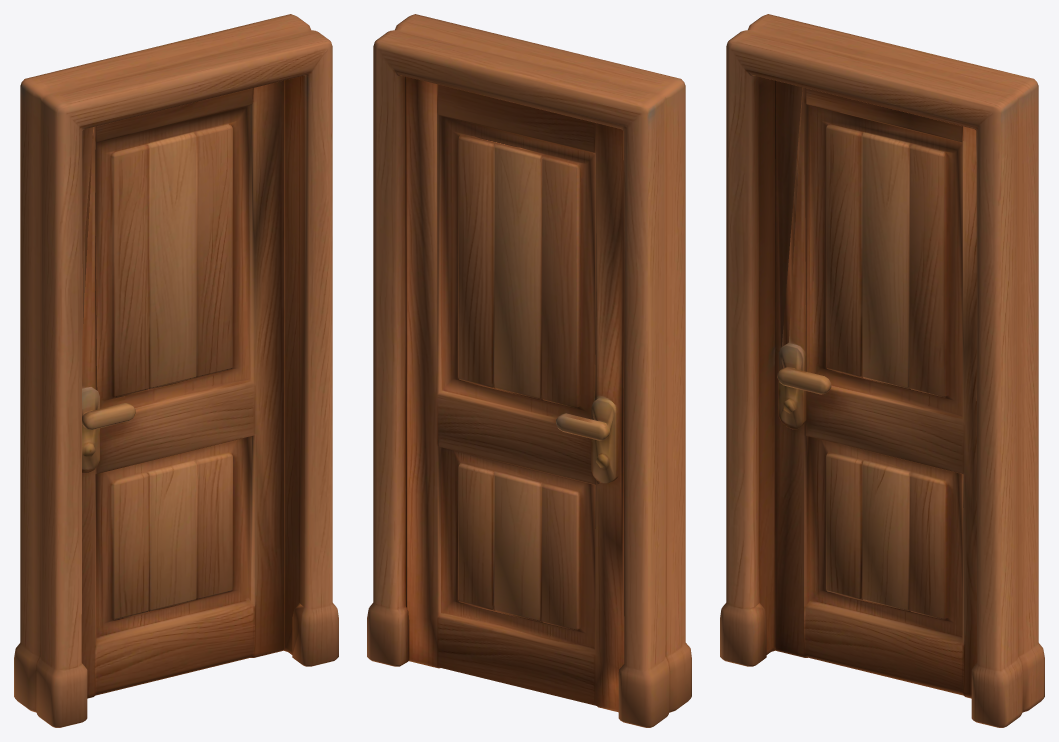
Rendered from a_wooden_door_e69c8654_v3.glb.
3 renders of one model, left to right at view 1: azimuth 30°, elevation 25°; view 2: azimuth 150°, elevation 25°; view 3: azimuth 330°, elevation 25°, orthographic.
Visible parts, largest first — view 1: material; view 2: material; view 3: material.
Part boxes in pixels (x1,y1,x2,y2): material: [14, 14, 338, 727]; material: [367, 14, 691, 727]; material: [720, 14, 1044, 727].
Size of the model in its own units: 0.9198 by 1.9 by 0.2461.
Materials: 1 (1 with a texture image).
